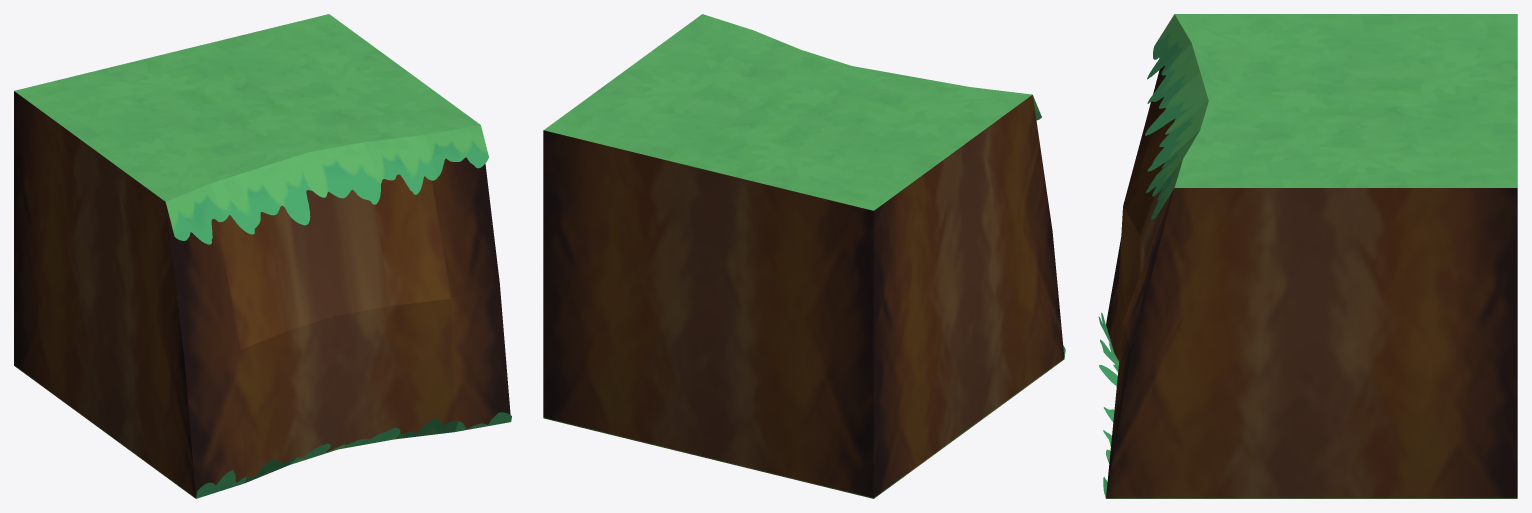
Rendered from Cliff01_Center_Concave_1x1x2.fbx.
The picture shows the model from 3 angles, left to right: view 1: azimuth 30°, elevation 25°; view 2: azimuth 150°, elevation 25°; view 3: azimuth 270°, elevation 25°; orthographic projection. The views are drawn at different scales.
Parts seen in each view (by area): view 1: Cliff01_Center_Concave_1x1x2, Cliff01_Center_Concave_1x1x2_Grass; view 2: Cliff01_Center_Concave_1x1x2; view 3: Cliff01_Center_Concave_1x1x2, Cliff01_Center_Concave_1x1x2_Grass.
Boxes of the visible parts, bbox=[...] form: Cliff01_Center_Concave_1x1x2: bbox=[14, 14, 510, 498]; Cliff01_Center_Concave_1x1x2_Grass: bbox=[165, 125, 511, 498]; Cliff01_Center_Concave_1x1x2: bbox=[543, 14, 1064, 498]; Cliff01_Center_Concave_1x1x2: bbox=[1106, 14, 1517, 498]; Cliff01_Center_Concave_1x1x2_Grass: bbox=[1098, 14, 1208, 498].
Size of the model in its own units: 3 by 3.06 by 2.5.
